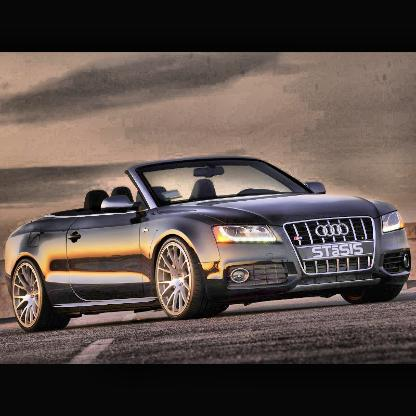Audi S5 Convertible 2012: (6, 158, 412, 335)
